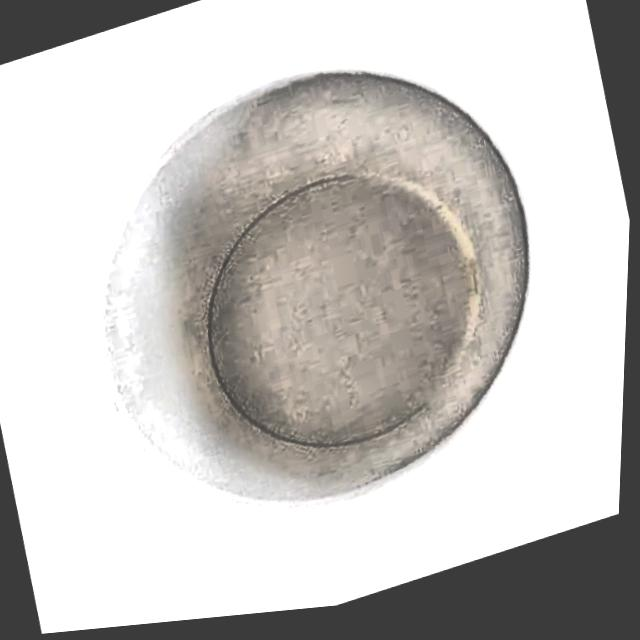Cup: (27, 0, 623, 608)
